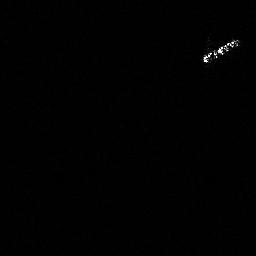ship: (199, 35, 244, 66)
